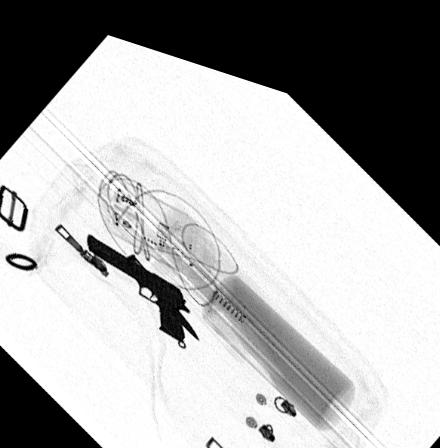Bullet: (123, 243, 198, 327)
Gun: (85, 226, 185, 330)
